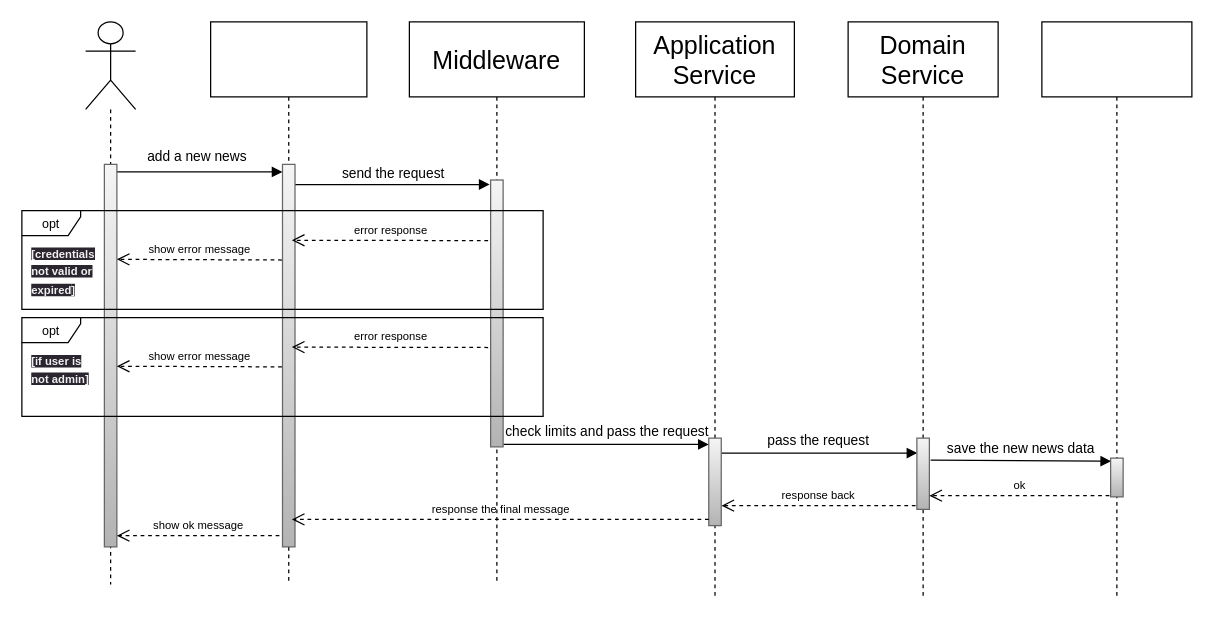
Some shapes in this 1214 by 619 pixel diagram are drawn without their labels. The shapes that lost their labels are listed below. From the top down, each one's box as (x1, y1, x2, y2) in pixels, then its label:
(209, 21, 367, 584): Web UI
(1041, 21, 1192, 597): Database
